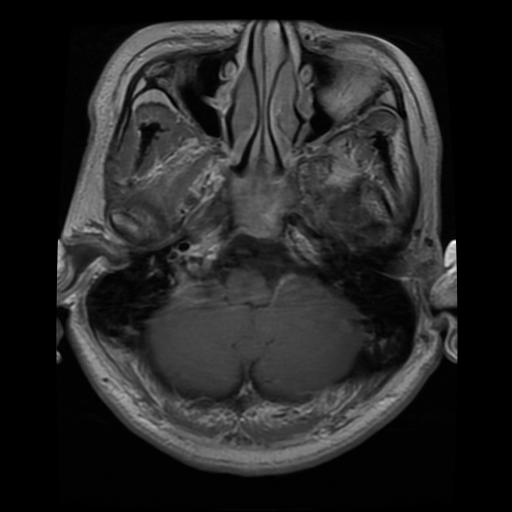Pituirity_tumour: (232, 173, 297, 235)
